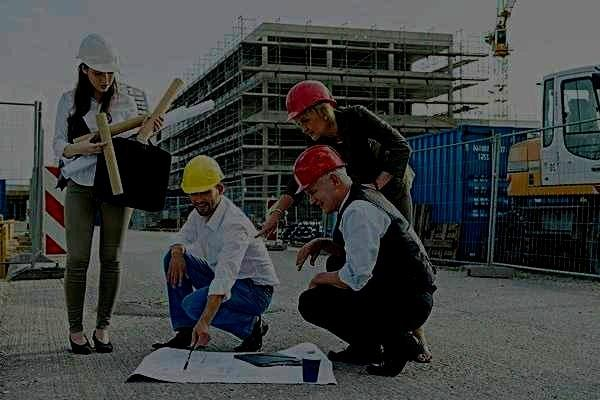helmet: (292, 145, 351, 214), (284, 79, 337, 141), (181, 154, 225, 217), (75, 32, 121, 92)
